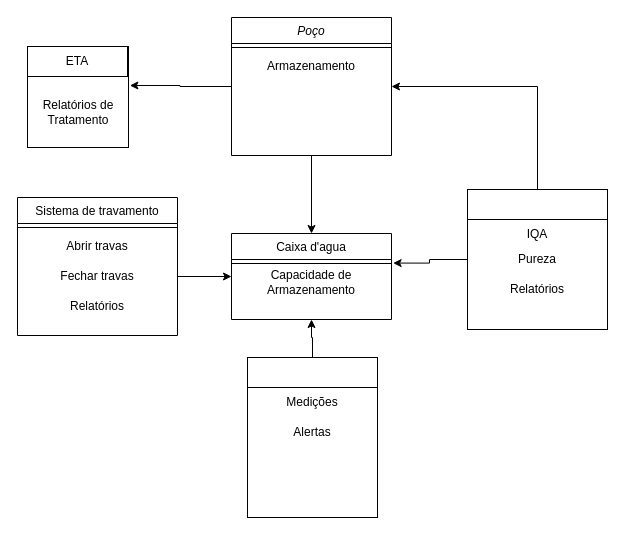
The diagram is 625 pixels wide and 535 high, and some of its shapes have lost their labels. The centre of each missing label's shape, as x and y in pixels:
"Sensores" belongs at pixel 312 372.
"Água" belongs at pixel 537 204.
